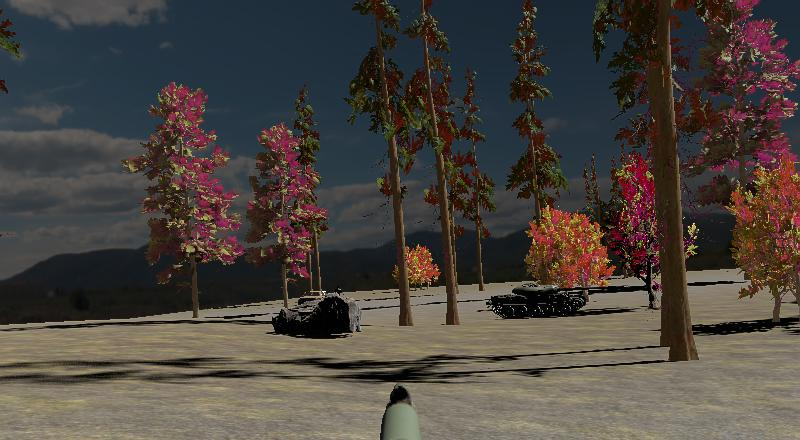Tank: (488, 281, 608, 320)
